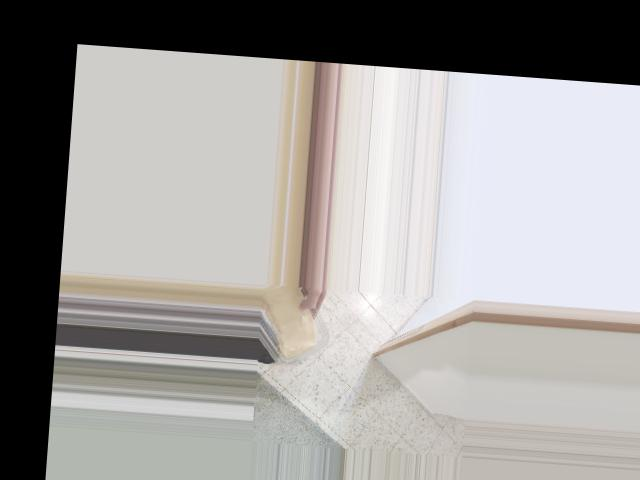cheese: (256, 282, 331, 365)
